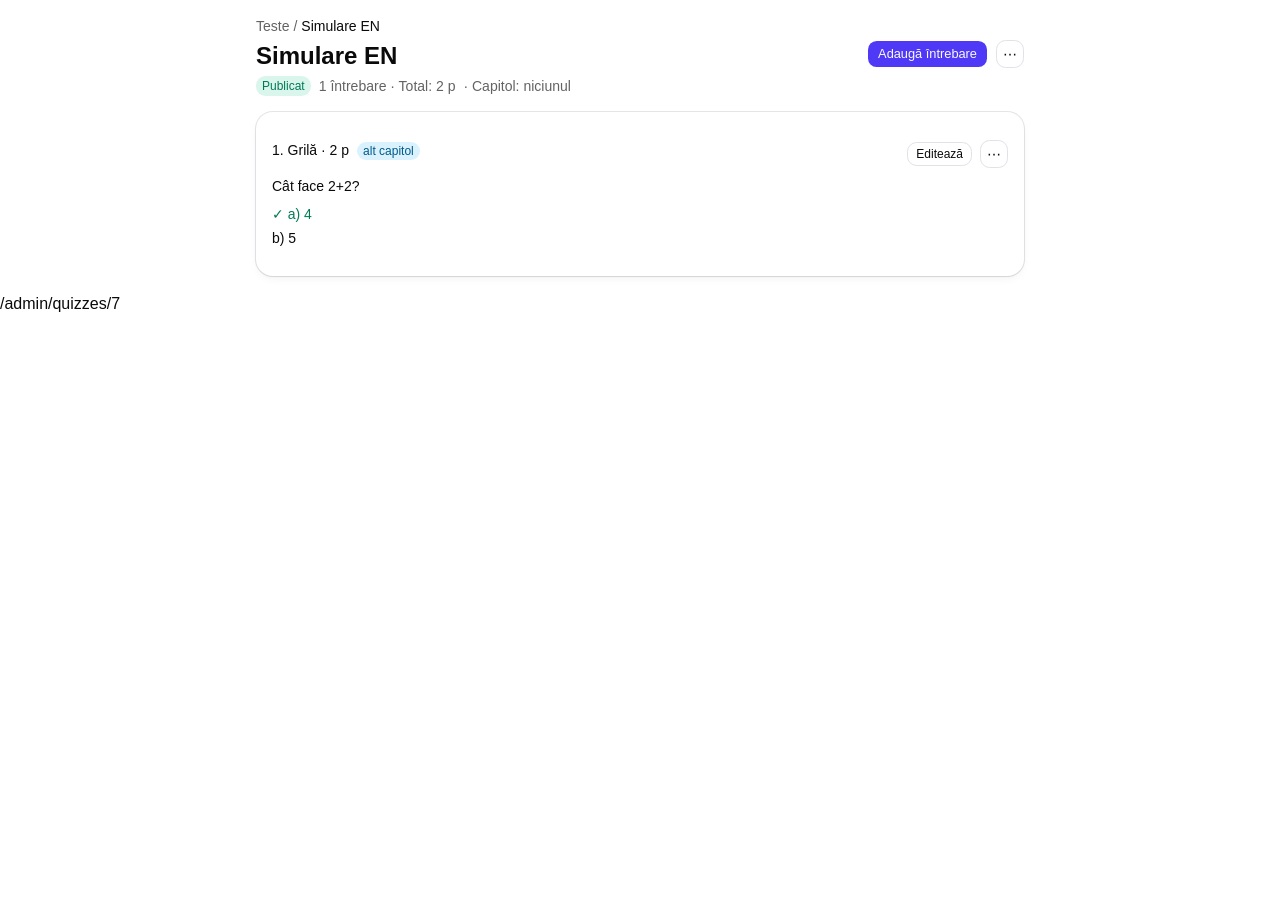
Scenario: AdminQuizzesPage › Depublică › in the editor sits behind the last menu, away from the first place
Check: the text "Cât face 2+2?" is shown, box [272,178,360,194]
Check: the button "Depublică" is not shown
Step 1. Click the button named "Mai multe acțiuni pentru Simulare EN" → (1010, 54), box [996,40,1024,68]
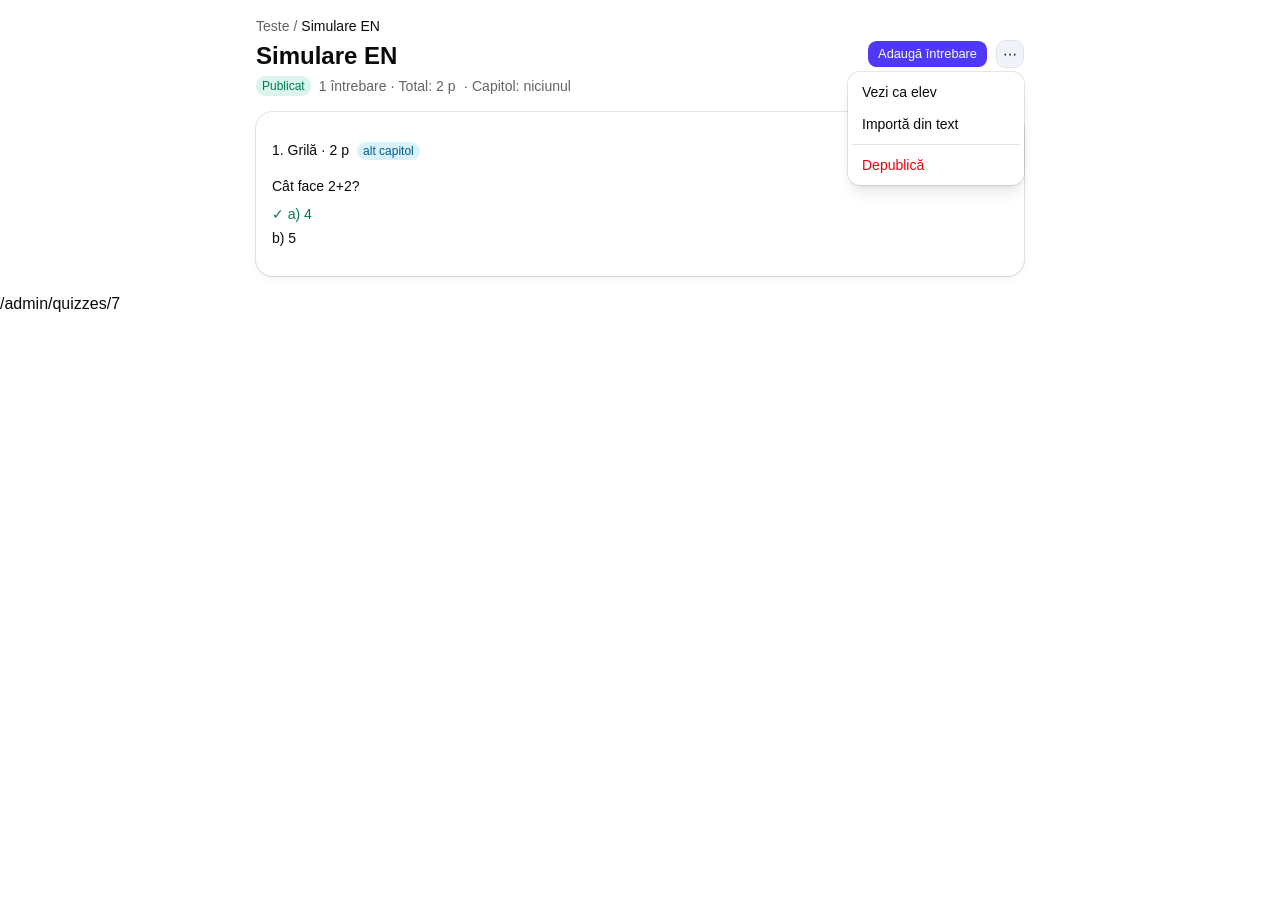
Step 2. Click the menu item "Depublică" → (893, 165), box [862,157,924,173]
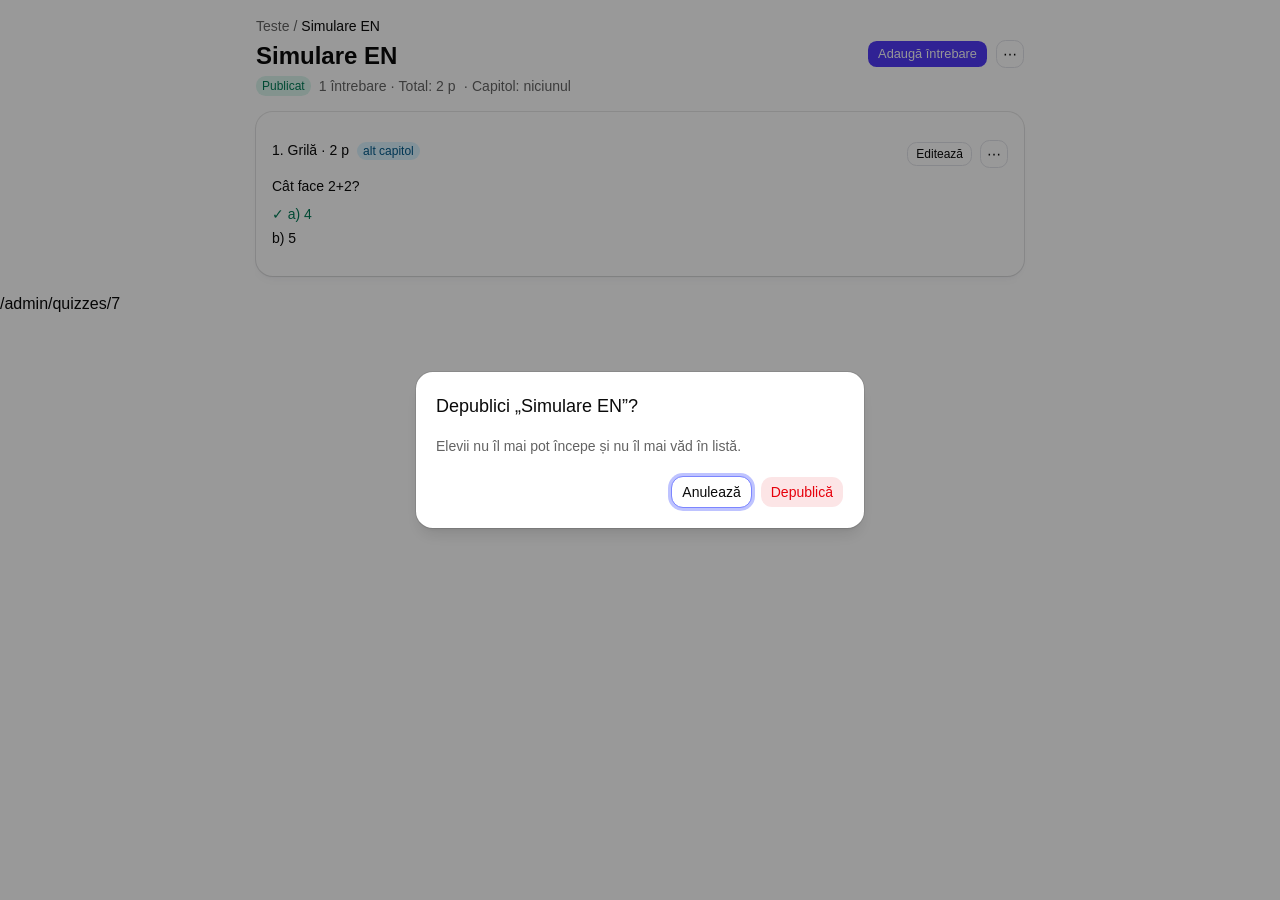
Check: the dialog "Depublici „Simulare EN”?" is shown, box [416,372,864,528]
